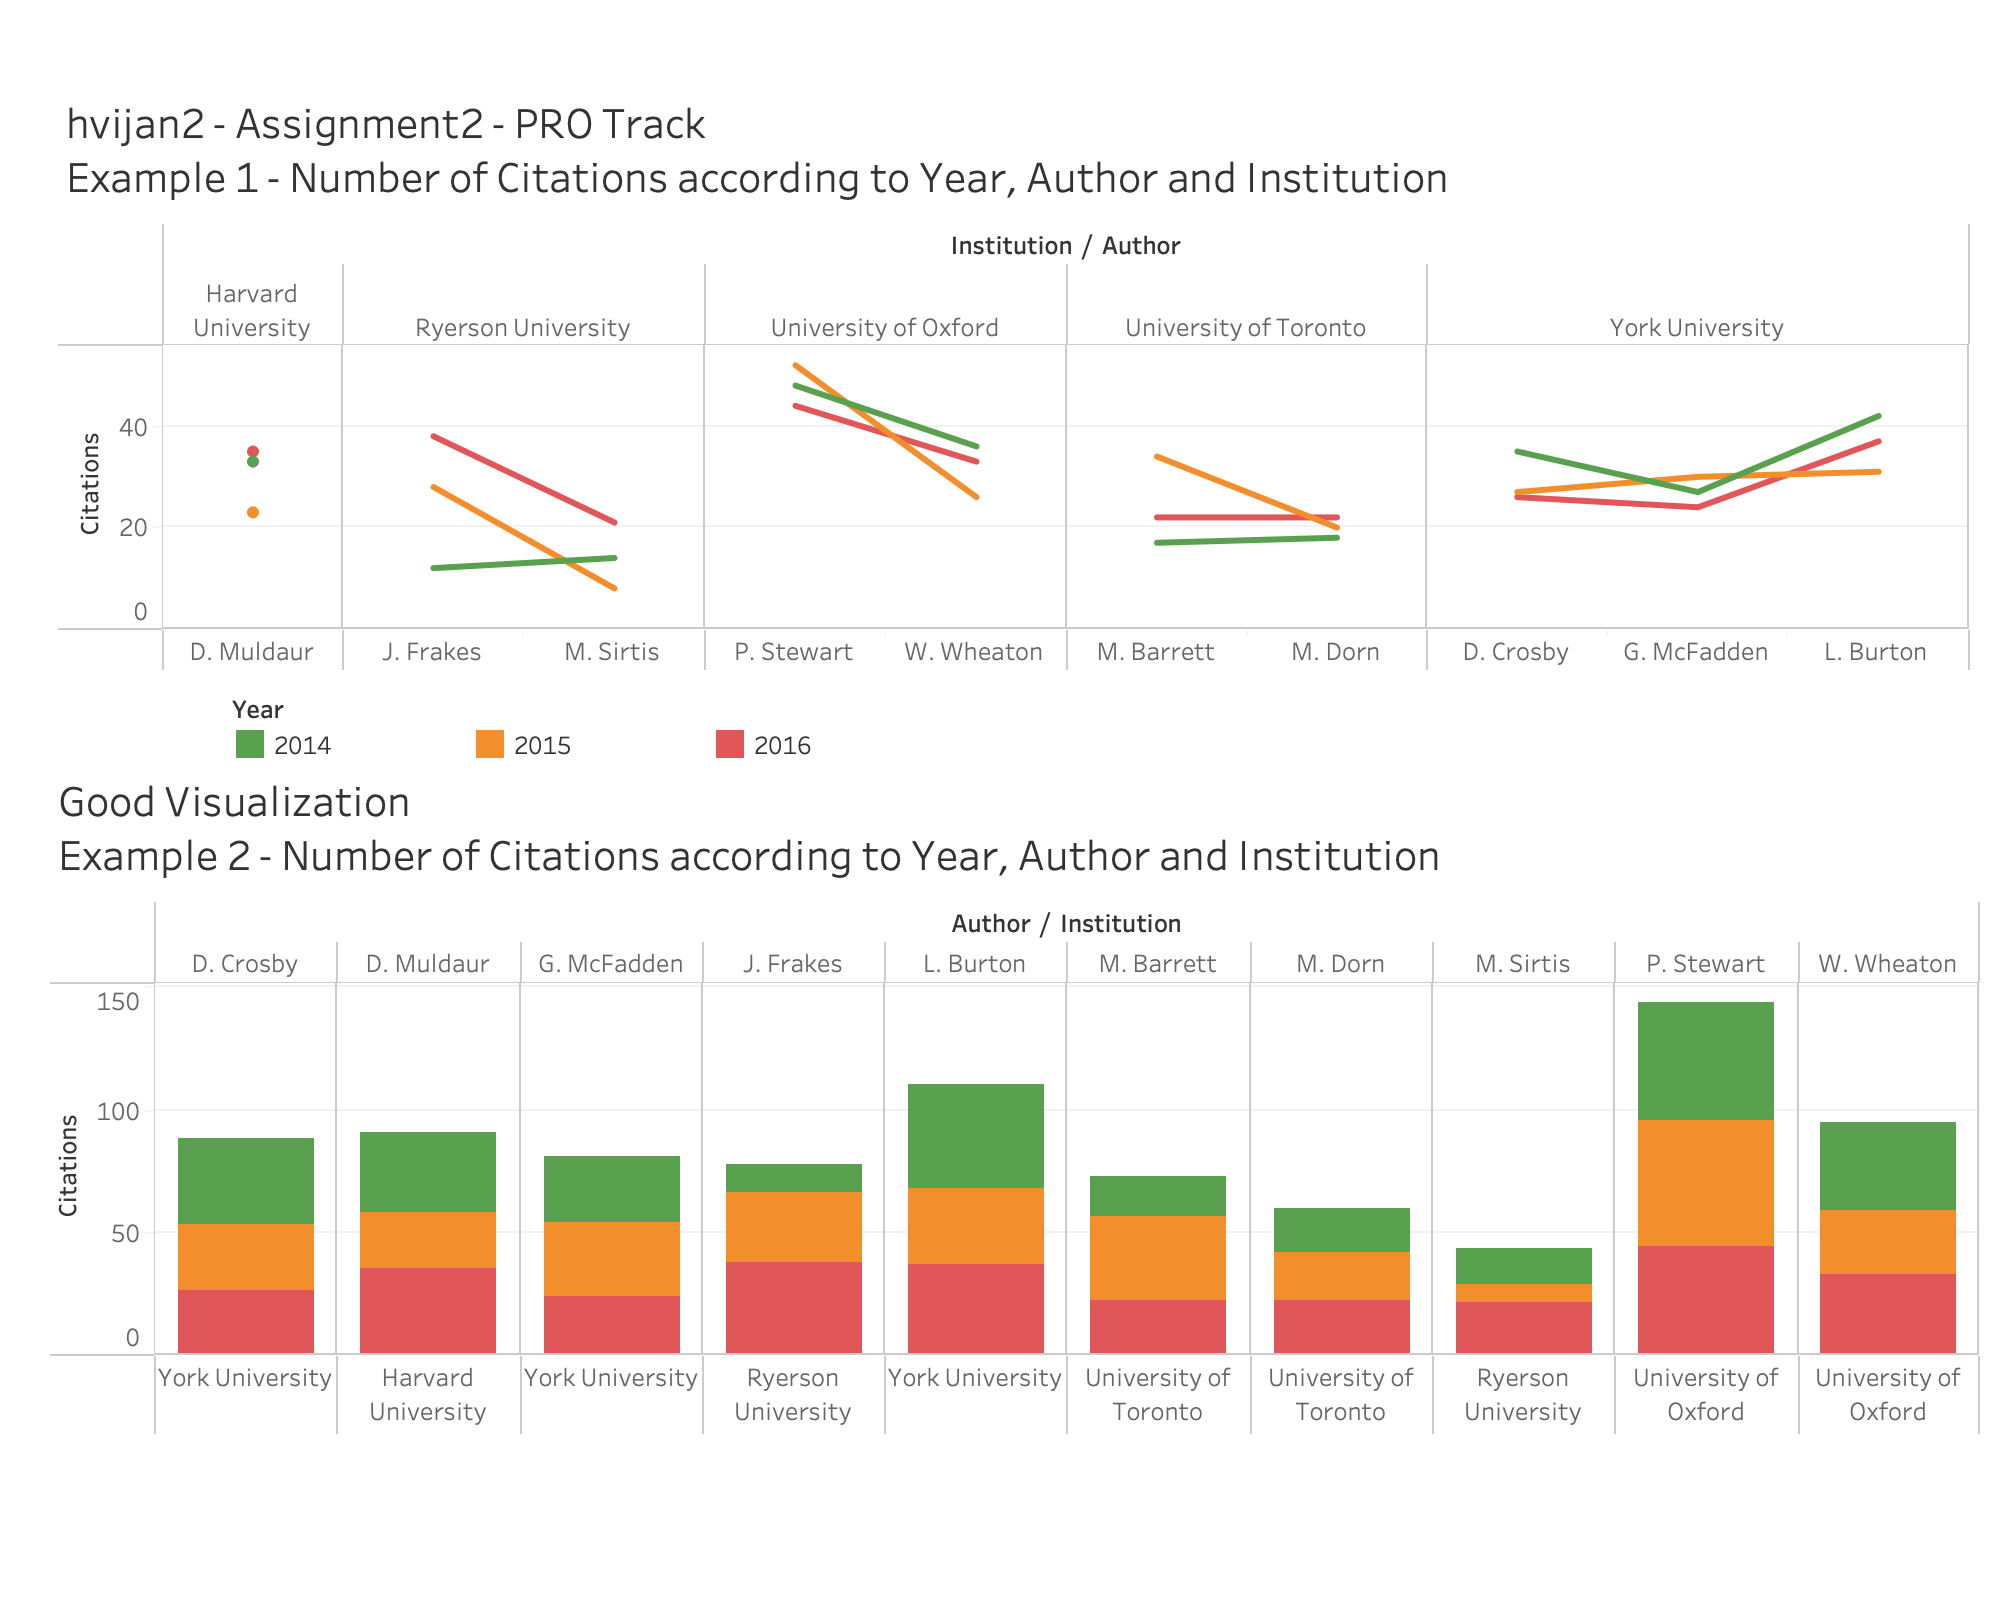

The page's visual inventory and layout, read from the dashboard file:
{"tool":"tableau","page":{"name":"Dashboard 1","canvas":[1000,800],"ordinal":0},"visuals":[{"type":"worksheet","title":"Bad","mark":"Line","rows":["Citations"],"cols":["Institution","Author"],"box":[29,41,956,295]},{"type":"legend","title":"Bad","param":"[federated.0iwkmbz0nc8fmc17nxpfn1r7yviw].[Author, Country, Institution and 1 mor","box":[115,344,786,41]},{"type":"worksheet","title":"Good","mark":"Bar","rows":["Citations"],"cols":["Author","Institution"],"box":[25,380,966,338]}]}

Visuals, with their boxes in screenshot pixels (x1, y1, x2, y2), scaled from the page's 1000x800 canvas onto the 2000x1600 screenshot:
"Bad" worksheet (Line marks): pyautogui.locateOnScreen(58, 82, 1970, 672)
"Bad" legend: pyautogui.locateOnScreen(230, 688, 1802, 770)
"Good" worksheet (Bar marks): pyautogui.locateOnScreen(50, 760, 1982, 1436)
